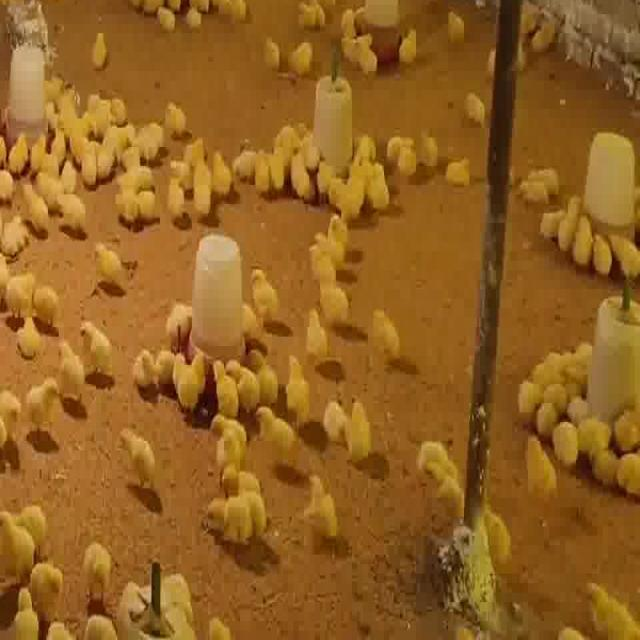poussin: (599, 546, 636, 638), (285, 322, 321, 402), (412, 423, 454, 491), (519, 433, 559, 503), (117, 424, 160, 489), (481, 494, 522, 560), (343, 402, 386, 464), (554, 576, 596, 638), (303, 472, 338, 544), (76, 312, 116, 373), (256, 409, 299, 465), (55, 340, 94, 400), (28, 370, 66, 428), (224, 493, 269, 540), (86, 241, 130, 289), (177, 336, 211, 398), (252, 346, 283, 409), (214, 454, 270, 488), (252, 248, 283, 308), (0, 505, 32, 562), (209, 410, 248, 456), (607, 215, 640, 269), (306, 290, 338, 345), (197, 489, 230, 542), (28, 562, 71, 602), (132, 341, 174, 381), (52, 60, 76, 130), (163, 296, 189, 360), (162, 562, 196, 610), (6, 270, 42, 314), (438, 154, 482, 190), (377, 303, 401, 366), (21, 502, 49, 555), (12, 317, 44, 363), (306, 238, 335, 288), (242, 297, 268, 352), (290, 148, 312, 212), (350, 35, 382, 78), (214, 317, 239, 371), (134, 119, 164, 164), (13, 582, 36, 640), (230, 361, 256, 412), (230, 137, 260, 181), (327, 208, 356, 253), (195, 151, 218, 206), (554, 421, 582, 466), (115, 164, 161, 191), (538, 192, 568, 233), (322, 402, 348, 449), (443, 7, 475, 45), (96, 108, 122, 154), (0, 218, 28, 260), (572, 209, 596, 257), (394, 17, 422, 58), (27, 186, 53, 230), (538, 351, 566, 391), (162, 87, 188, 130), (556, 202, 582, 244), (592, 448, 622, 484), (615, 449, 639, 494), (84, 548, 112, 586), (54, 136, 74, 189), (210, 150, 232, 198), (582, 418, 615, 450), (288, 30, 318, 65), (166, 128, 198, 159), (417, 125, 439, 170), (561, 343, 591, 376), (278, 114, 299, 161), (526, 157, 556, 189), (592, 223, 612, 271), (516, 374, 538, 417), (370, 162, 391, 207), (0, 155, 27, 190), (464, 88, 488, 127), (314, 232, 344, 263), (541, 380, 572, 410), (0, 387, 26, 422), (614, 415, 640, 449), (11, 130, 31, 174), (35, 285, 59, 321), (68, 188, 89, 229), (251, 156, 271, 199), (79, 148, 100, 188), (324, 150, 348, 185), (347, 137, 365, 183), (136, 189, 162, 220), (186, 129, 211, 161), (120, 141, 144, 174), (265, 159, 288, 192), (168, 163, 186, 205), (263, 40, 287, 70), (537, 399, 555, 438), (84, 76, 109, 104), (108, 82, 128, 116), (295, 0, 329, 20), (115, 188, 137, 218), (384, 134, 414, 156), (30, 136, 45, 178), (91, 29, 108, 66), (67, 125, 93, 149), (398, 146, 418, 177), (160, 0, 178, 29), (186, 0, 203, 28)
